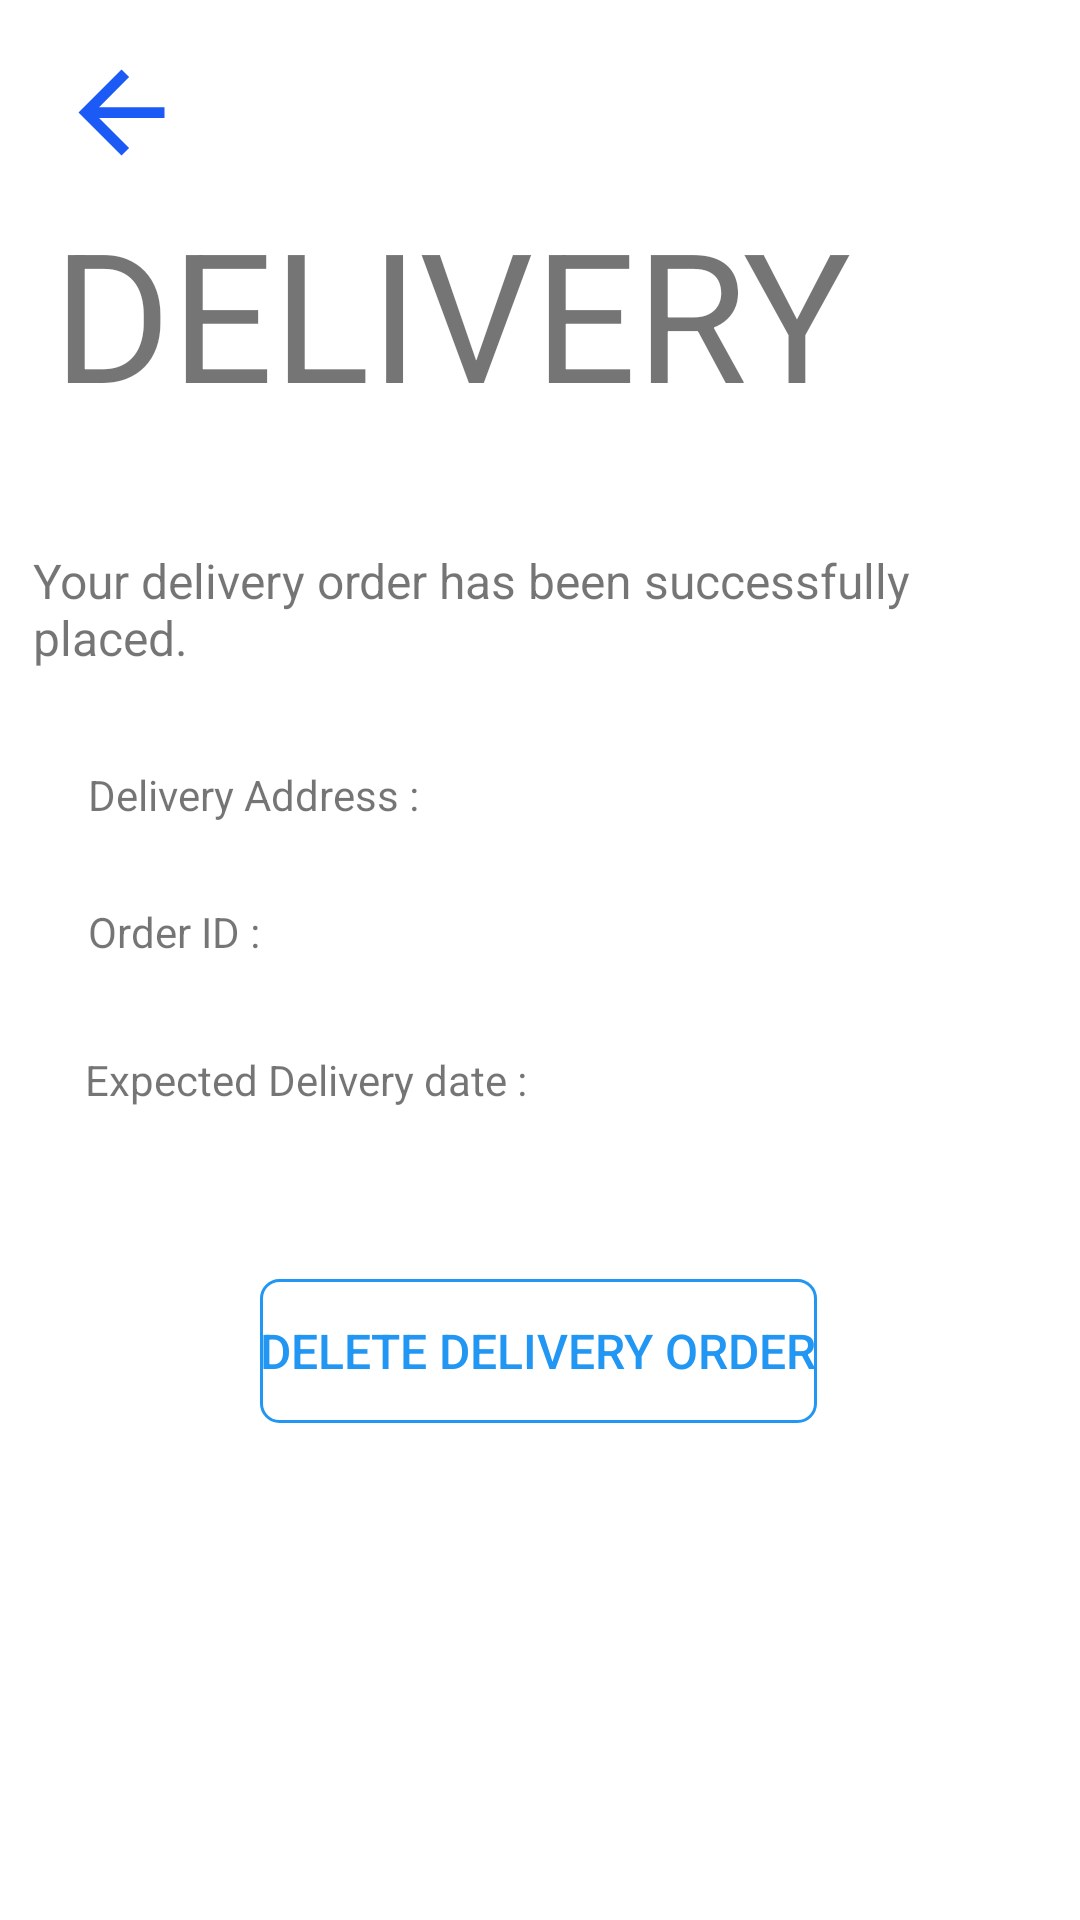

Named icons in this screenshot (1080×1920) and their bounding boxes, (x1,y1,x2,y2):
arrow back: (78,69,165,156)
